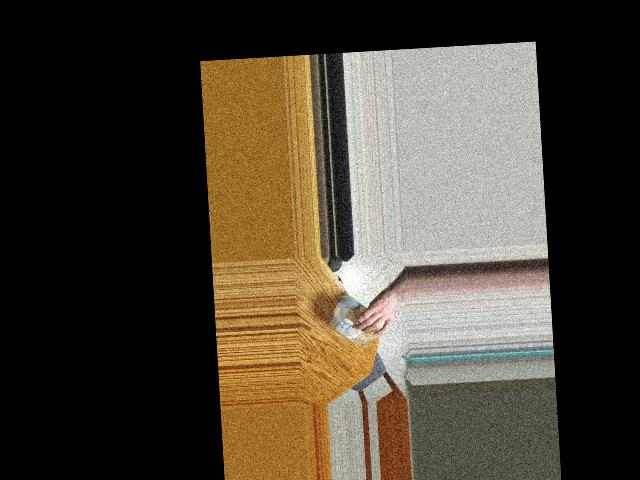cheese: (325, 293, 390, 348)
